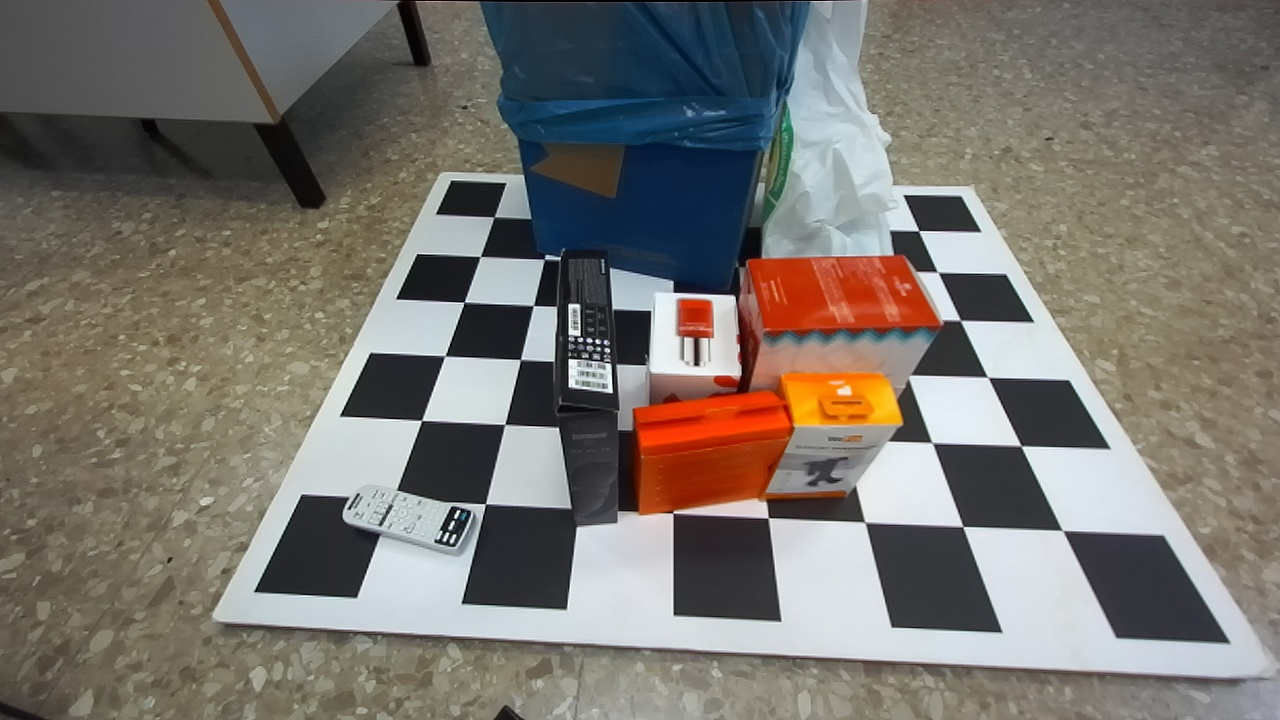caja_busbar: (738, 255, 942, 393)
caja_chasis: (552, 251, 621, 525)
caja_manguera: (632, 391, 791, 514)
caja_pcb: (762, 373, 902, 499)
caja_potencia: (647, 293, 741, 404)
